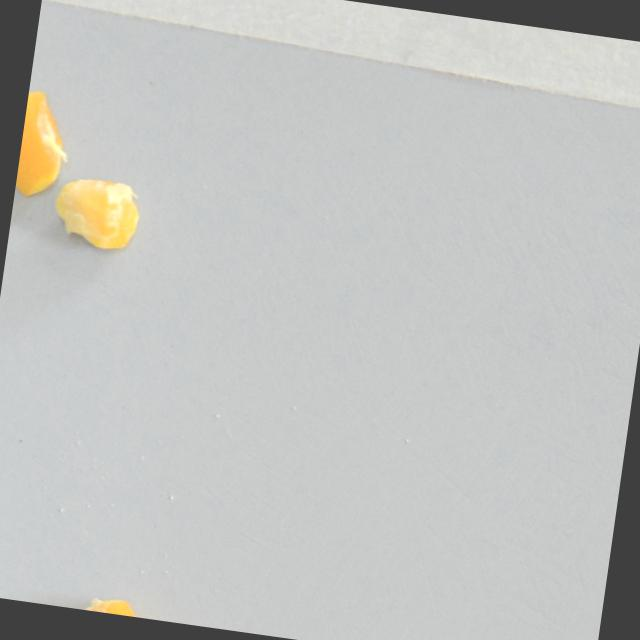pelicula: (49, 165, 146, 261), (14, 78, 80, 207), (82, 585, 170, 622)
